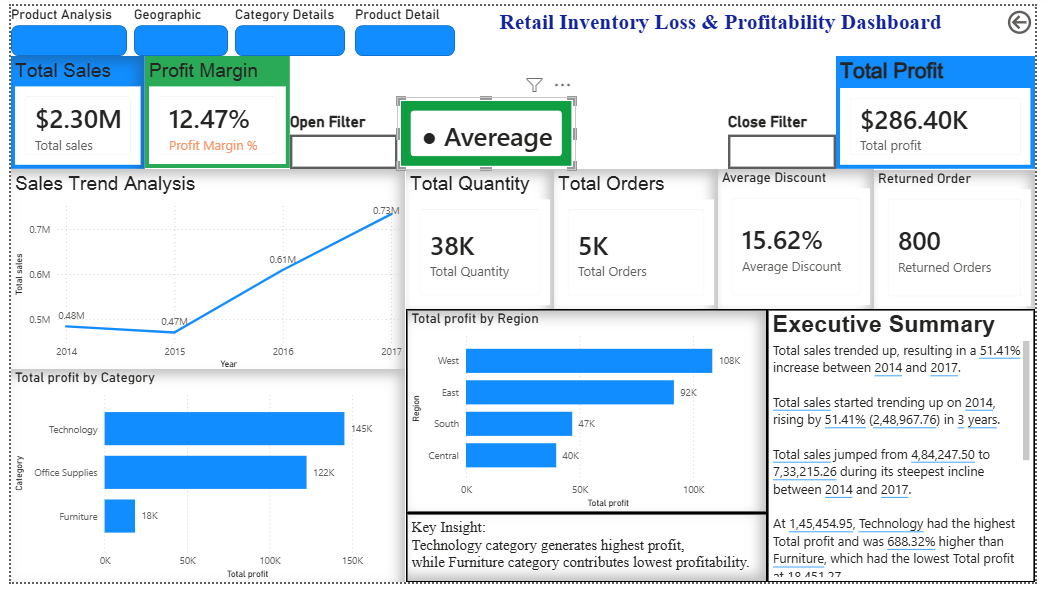

The page's visual inventory and layout, read from the dashboard file:
{"tool":"powerbi","page":{"name":"Excecutive Overview","canvas":[1280,720],"ordinal":0},"visuals":[{"type":"cardVisual","title":"Total Sales","fields":{"Data":["Retail Ordes.Total sales"]},"box":[0,62.9,167.1,141.4],"z":0},{"type":"cardVisual","title":"Total Profit","fields":{"Data":["Retail Ordes.Total profit"]},"box":[1031.2,62.5,248.8,141.2],"z":1000},{"type":"cardVisual","title":"Total Quantity","fields":{"Data":["Retail Ordes.Total Quantity"]},"box":[493.3,203.3,185,175],"z":2000},{"type":"cardVisual","title":"Total Orders","fields":{"Data":["Retail Ordes.Total Orders"]},"box":[678.3,203.3,205,175],"z":3000},{"type":"lineChart","title":"Sales Trend Analysis","fields":{"Y":["Retail Ordes.Total sales"],"Category":["Calendar.Date.Variation.Date Hierarchy.Year","Calendar.Date.Variation.Date Hierarchy.Quarter","Calendar.Date.Variation.Date Hierarchy.Month","Calendar.Date.Variation.Date Hierarchy.Day"]},"box":[0,203.3,493.3,255],"z":4000},{"type":"clusteredBarChart","fields":{"Category":["Retail Ordes.Category"],"Y":["Retail Ordes.Total profit"]},"box":[0,453.3,493.3,266.7],"z":5000},{"type":"cardVisual","title":"Returned Order","fields":{"Data":["Retail Ordes.Returned Orders"]},"box":[1078.3,205,201.7,175],"z":6000},{"type":"clusteredBarChart","fields":{"Category":["Retail Ordes.Region"],"Y":["Retail Ordes.Total profit"]},"box":[493.3,378.3,451.7,255],"z":7000},{"type":"cardVisual","title":"Average Discount","fields":{"Data":["Retail Ordes.Average Discount"]},"box":[883.3,203.3,195,175],"z":8000},{"type":"textbox","box":[493.3,633.3,451.7,86.7],"z":9000},{"type":"textbox","box":[296.2,75,707.5,47.5],"z":10000},{"type":"actionButton","title":"Close Filter","box":[896.2,133.8,135,70],"z":11000},{"type":"actionButton","title":"Open Filter","box":[348.6,134.3,134.3,70],"z":12000},{"type":"actionButton","box":[1241.2,0,38.8,40],"z":14000},{"type":"shape","title":"Product Analysis","box":[0,0,145,62.5],"z":15000},{"type":"shape","title":"Geographic","box":[153.8,0,117.5,62.5],"z":16000},{"type":"shape","title":"Category Details","box":[280,0,137.5,62.5],"z":17000},{"type":"shape","title":"Product Detail","box":[430,0,125,62.5],"z":18000},{"type":"textbox","title":"Executive Summary","box":[945,378.3,335,341.7],"z":19000},{"type":"cardVisual","title":"Profit Margin","fields":{"Data":["Retail Ordes.Profit Margin %"]},"box":[167.1,62.9,181.4,140],"z":19001},{"type":"cardVisual","fields":{"Data":["Retail Ordes.Profit Status"]},"box":[482.9,111.4,222.9,91.4],"z":19002}]}

Visuals, with their boxes in screenshot pixels (x1, y1, x2, y2), scaled from the page's 1280x720 canvas onto the 1051x603 screenshot:
"Total Sales" cardVisual: l=0, t=53, r=137, b=171
"Total Profit" cardVisual: l=847, t=52, r=1050, b=171
"Total Quantity" cardVisual: l=405, t=170, r=557, b=317
"Total Orders" cardVisual: l=557, t=170, r=725, b=317
"Sales Trend Analysis" lineChart: l=0, t=170, r=405, b=384
clusteredBarChart - Retail Ordes.Category x Retail Ordes.Total profit: l=0, t=380, r=405, b=602
"Returned Order" cardVisual: l=885, t=172, r=1050, b=318
clusteredBarChart - Retail Ordes.Region x Retail Ordes.Total profit: l=405, t=317, r=776, b=530
"Average Discount" cardVisual: l=725, t=170, r=885, b=317
textbox: l=405, t=530, r=776, b=602
textbox: l=243, t=63, r=824, b=103
"Close Filter" actionButton: l=736, t=112, r=847, b=171
"Open Filter" actionButton: l=286, t=112, r=397, b=171
actionButton: l=1019, t=0, r=1050, b=34
"Product Analysis" shape: l=0, t=0, r=119, b=52
"Geographic" shape: l=126, t=0, r=223, b=52
"Category Details" shape: l=230, t=0, r=343, b=52
"Product Detail" shape: l=353, t=0, r=456, b=52
"Executive Summary" textbox: l=776, t=317, r=1050, b=602
"Profit Margin" cardVisual: l=137, t=53, r=286, b=170
cardVisual - Retail Ordes.Profit Status: l=397, t=93, r=580, b=170
